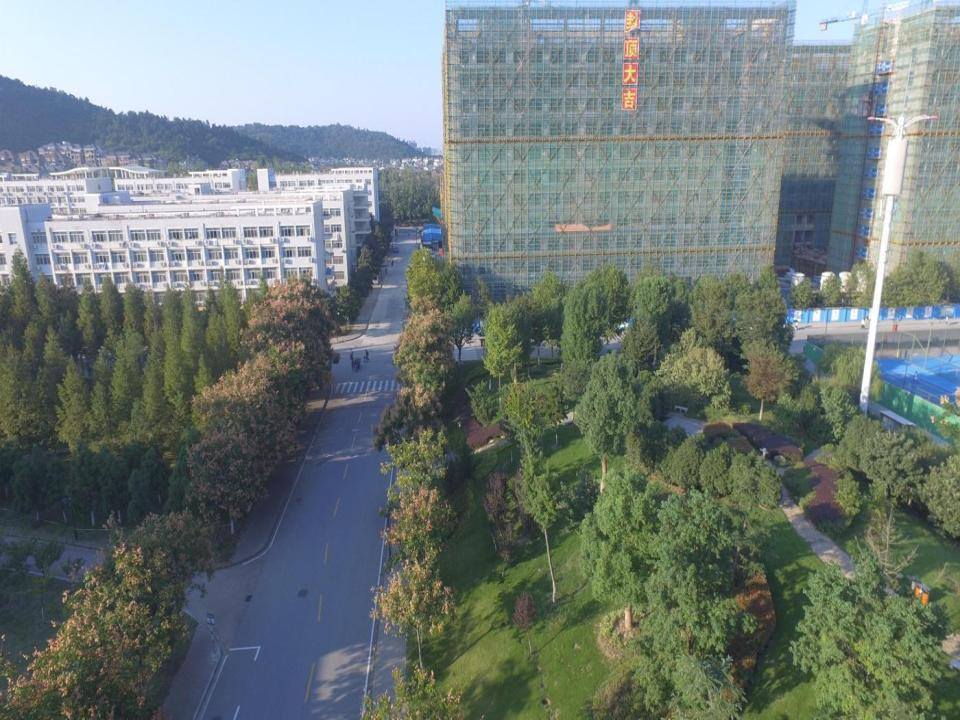car: (411, 227, 421, 233), (394, 245, 399, 253)
